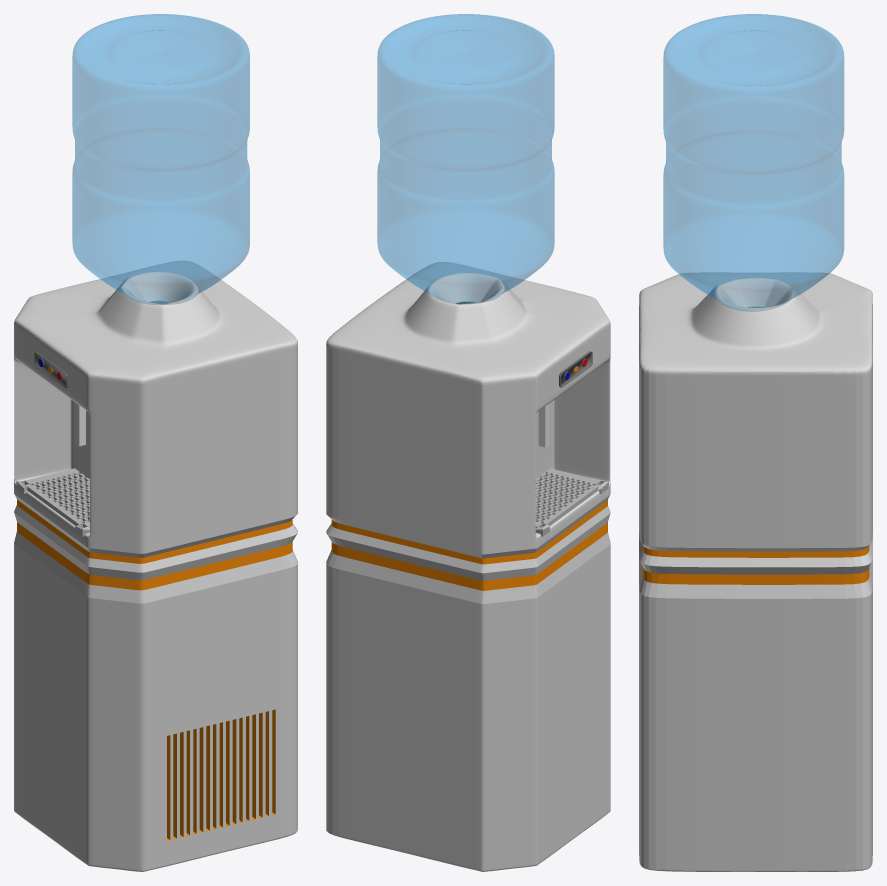
Rendered from cooler.glb.
The picture shows the model from 3 angles, left to right: view 1: azimuth 30°, elevation 25°; view 2: azimuth 150°, elevation 25°; view 3: azimuth 270°, elevation 25°; orthographic projection. The views are drawn at different scales.
Parts seen in each view (by area): view 1: Base, BocciaAcqua, gRIGLIA; view 2: Base, BocciaAcqua, gRIGLIA; view 3: Base, BocciaAcqua.
Boxes of the visible parts, box(x1,y1,x2,y2) form: Base: box(14, 260, 297, 871); BocciaAcqua: box(72, 14, 249, 304); gRIGLIA: box(16, 468, 89, 536); Base: box(326, 262, 610, 871); BocciaAcqua: box(377, 14, 554, 303); gRIGLIA: box(535, 468, 609, 536); Base: box(639, 272, 872, 871); BocciaAcqua: box(663, 14, 843, 311).
Bounding box in the file's own units: 0.504 × 1.85 × 0.5.
